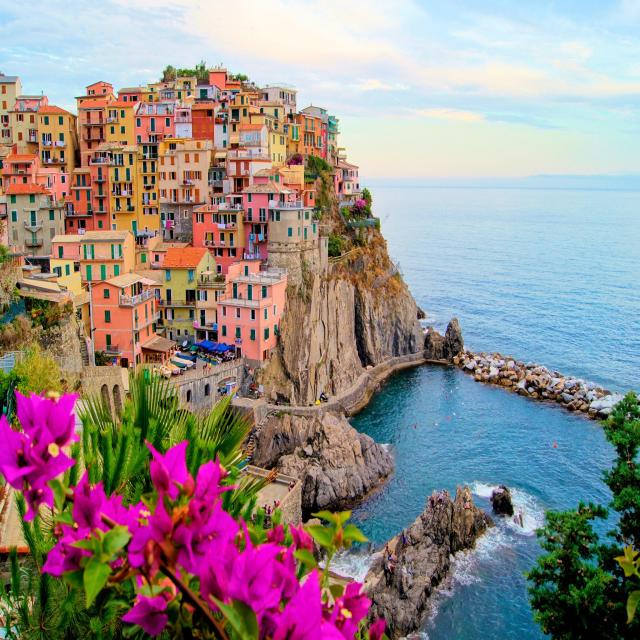body: (198, 347, 225, 359), (315, 208, 324, 238), (225, 204, 236, 228), (386, 556, 396, 574), (401, 532, 408, 552), (270, 468, 278, 484), (384, 541, 392, 557), (388, 550, 396, 564), (149, 352, 160, 362), (429, 497, 435, 513), (438, 491, 443, 508), (166, 133, 180, 139), (290, 194, 296, 208), (202, 363, 208, 376), (386, 542, 392, 555), (205, 352, 212, 363), (203, 235, 210, 246), (464, 499, 471, 509), (189, 296, 196, 306), (276, 498, 282, 509), (248, 365, 254, 376), (260, 506, 265, 519), (287, 482, 293, 492), (159, 354, 165, 364), (153, 364, 157, 379), (200, 346, 207, 354), (352, 243, 357, 254), (263, 503, 267, 515), (266, 506, 272, 514), (215, 353, 220, 362), (106, 154, 111, 163), (208, 362, 212, 373), (228, 350, 232, 360), (223, 349, 227, 358), (222, 351, 226, 360), (209, 351, 213, 360), (197, 349, 201, 358), (205, 362, 208, 373), (245, 362, 249, 370), (292, 480, 296, 488), (364, 576, 368, 584), (202, 352, 206, 360), (246, 251, 253, 255), (349, 198, 352, 206), (353, 198, 356, 206), (139, 286, 142, 294), (274, 500, 277, 507), (177, 346, 180, 352), (150, 354, 152, 362), (352, 199, 354, 206)
